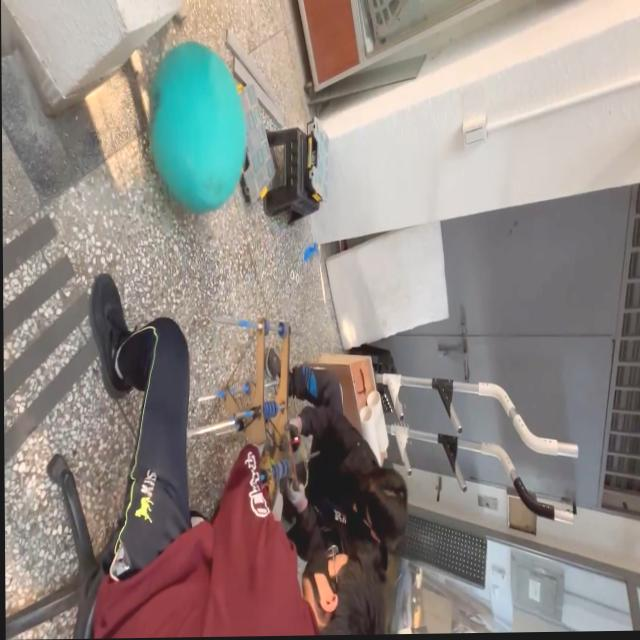ALGAE: (146, 38, 248, 216)
